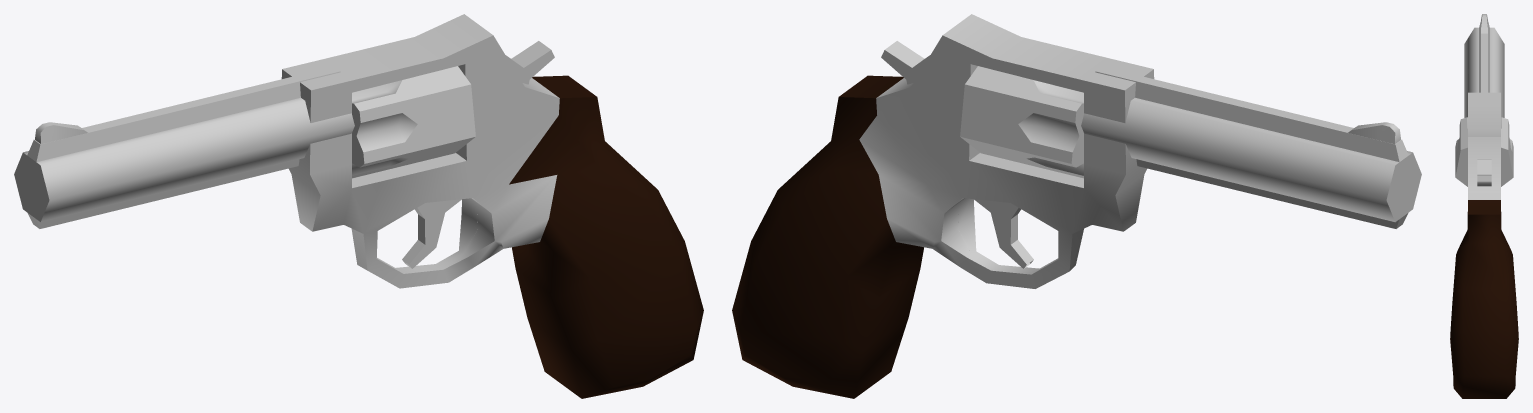
File: M_Revolver.FBX
3 renders of one model, left to right at view 1: azimuth 30°, elevation 25°; view 2: azimuth 150°, elevation 25°; view 3: azimuth 270°, elevation 25°, orthographic. The views are drawn at different scales.
Visible parts, largest first — view 1: M_Revolver; view 2: M_Revolver; view 3: M_Revolver.
Boxes of the visible parts, box(x1,y1,x2,y2) form: M_Revolver: box(14, 14, 703, 398); M_Revolver: box(732, 14, 1421, 398); M_Revolver: box(1450, 14, 1518, 398).
Bounding box in the file's own units: 25.02 × 14.22 × 4.03.
